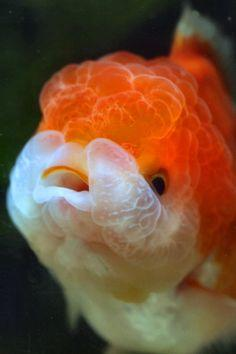goldfish: (3, 38, 231, 332)
